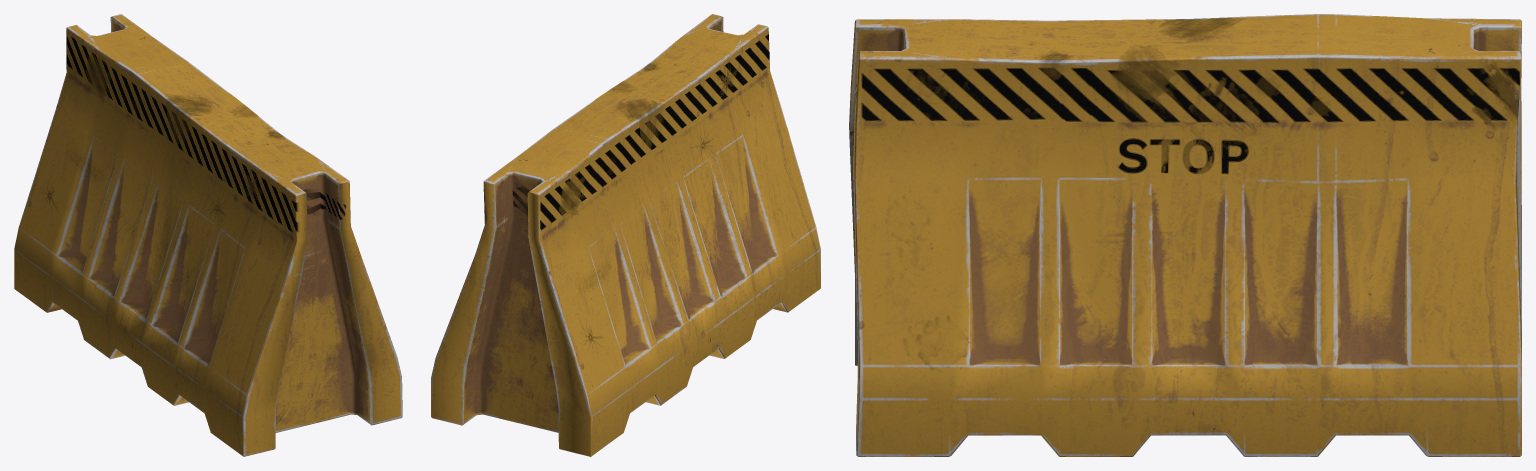
File: traffic3.glb
3 views of the same model, side by side, from view 1: azimuth 30°, elevation 25°; view 2: azimuth 150°, elevation 25°; view 3: azimuth 270°, elevation 25° (orthographic). The views are drawn at different scales.
Parts seen in each view (by area): view 1: barrier_low; view 2: barrier_low; view 3: barrier_low.
Boxes of the visible parts, <box> form: barrier_low: <box>14,14,402,456</box>; barrier_low: <box>431,14,820,456</box>; barrier_low: <box>849,14,1521,456</box>.
Bounding box in the file's own units: 0.4033 × 0.6087 × 1.01.
Materials: 1 (1 with a texture image).
